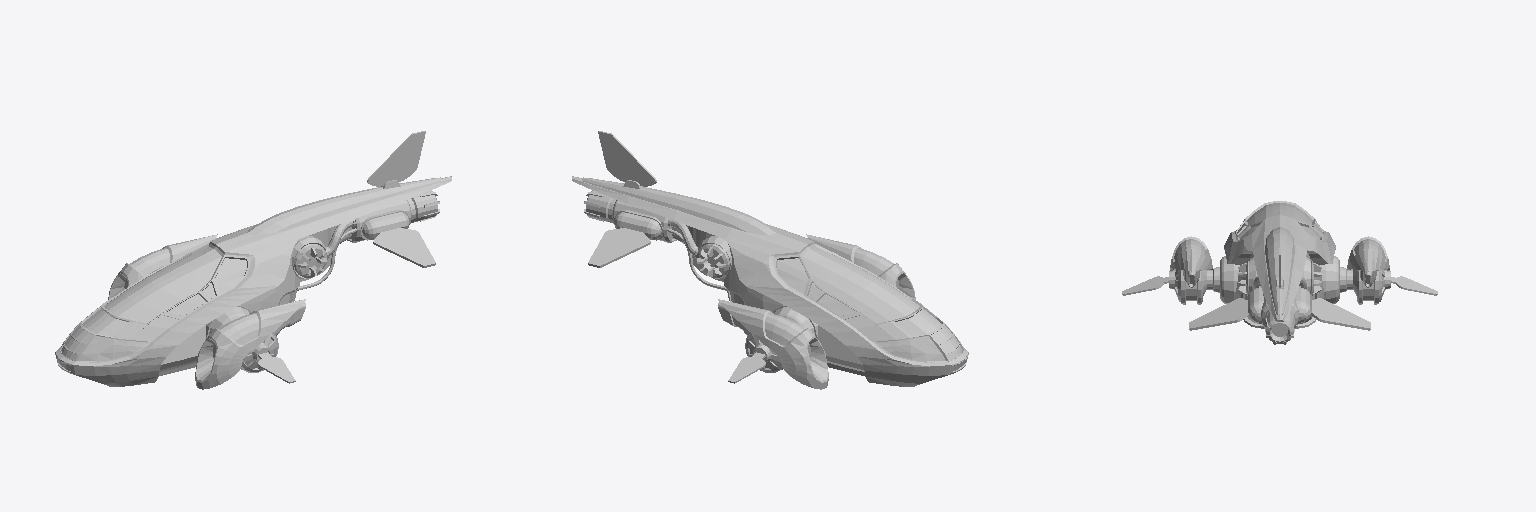
The model's file is Sample_Ships.obj.
The picture shows the model from 3 angles: view 1: azimuth 30°, elevation 25°; view 2: azimuth 150°, elevation 25°; view 3: azimuth 270°, elevation 25°; orthographic projection.
Parts seen in each view (by area): view 1: Ship_Type_3_Sphere.005; view 2: Ship_Type_3_Sphere.005; view 3: Ship_Type_3_Sphere.005.
Boxes of the visible parts, box(x1,y1,x2,y2) form: Ship_Type_3_Sphere.005: box(55, 131, 451, 389); Ship_Type_3_Sphere.005: box(572, 131, 968, 389); Ship_Type_3_Sphere.005: box(1122, 201, 1437, 344).
Bounding box in the file's own units: 0.8613 × 0.3519 × 0.5999.